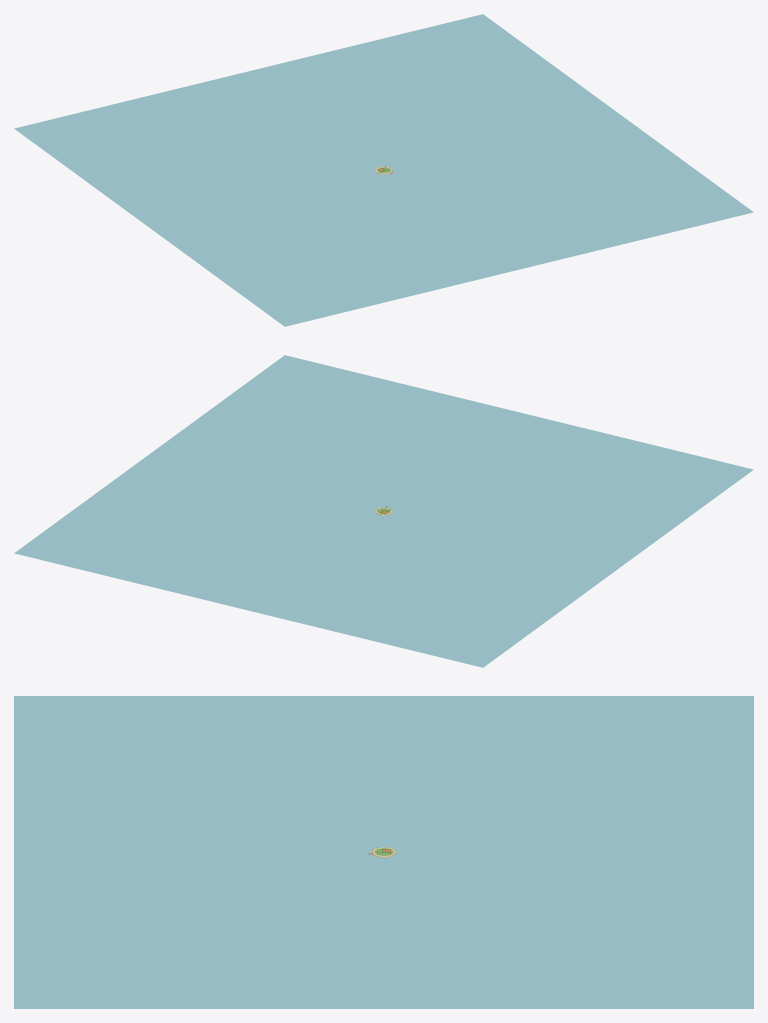
File: island.glb
3 views of the same model, one above another, from view 1: azimuth 30°, elevation 25°; view 2: azimuth 150°, elevation 25°; view 3: azimuth 270°, elevation 25° (orthographic). The views are drawn at different scales.
Visible parts, largest first — view 1: island; view 2: island; view 3: island.
Boxes of the visible parts, box(x1,y1,x2,y2) form: island: box(14, 14, 753, 326); island: box(14, 355, 753, 667); island: box(14, 696, 753, 1008).
Size of the model in its own units: 800 by 3.96 by 800.
